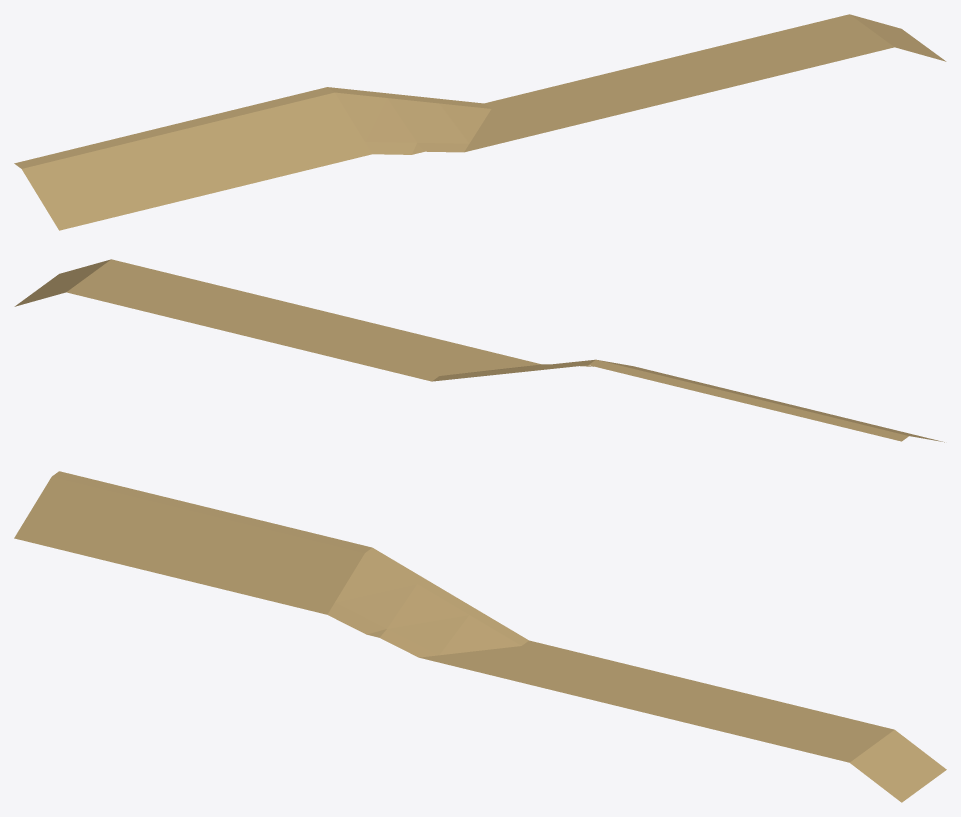
Rendered from farmroad.glb.
3 views of the same model, one above another, from view 1: azimuth 30°, elevation 25°; view 2: azimuth 150°, elevation 25°; view 3: azimuth 330°, elevation 25° (orthographic).
Visible parts, largest first — view 1: farmroad; view 2: farmroad; view 3: farmroad.
Part boxes in pixels (<box>): farmroad: <box>14,14,946,230</box>; farmroad: <box>14,259,944,442</box>; farmroad: <box>14,471,946,802</box>.
Bounding box in the file's own units: 34 × 3 × 3.
